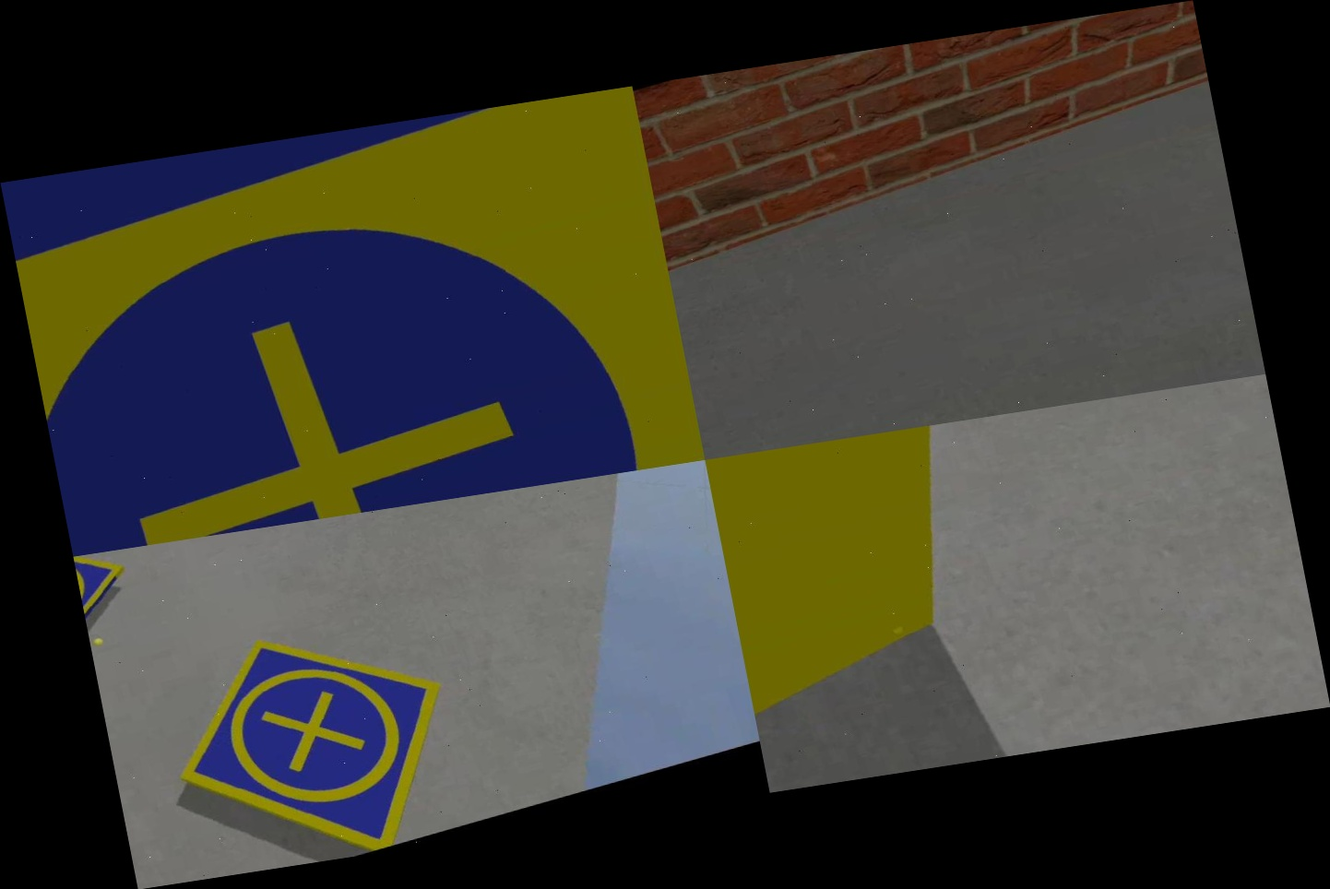large_base: (1, 86, 705, 556)
small_base: (135, 590, 491, 882), (74, 548, 156, 673)
